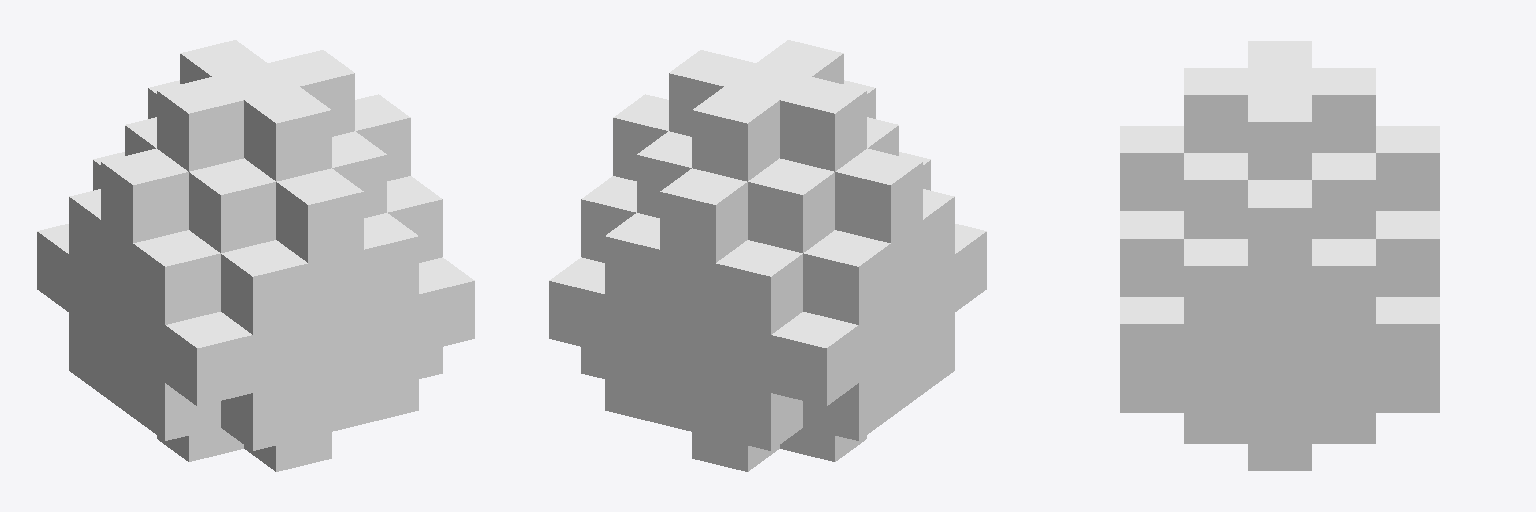
File: BushModel-0.obj
The picture shows the model from 3 angles: view 1: azimuth 30°, elevation 25°; view 2: azimuth 150°, elevation 25°; view 3: azimuth 270°, elevation 25°; orthographic projection.
Parts seen in each view (by area): view 1: object 1; view 2: object 1; view 3: object 1.
Part boxes in pixels (bbox=[...]): object 1: bbox=[37, 40, 474, 471]; object 1: bbox=[549, 40, 986, 471]; object 1: bbox=[1120, 41, 1439, 470].
Size of the model in its own units: 0.5 by 0.6 by 0.5.